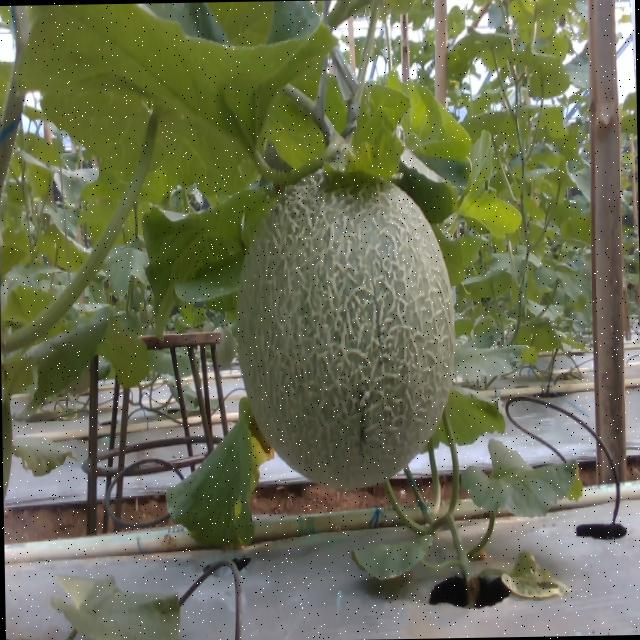melon: (238, 172, 454, 488)
